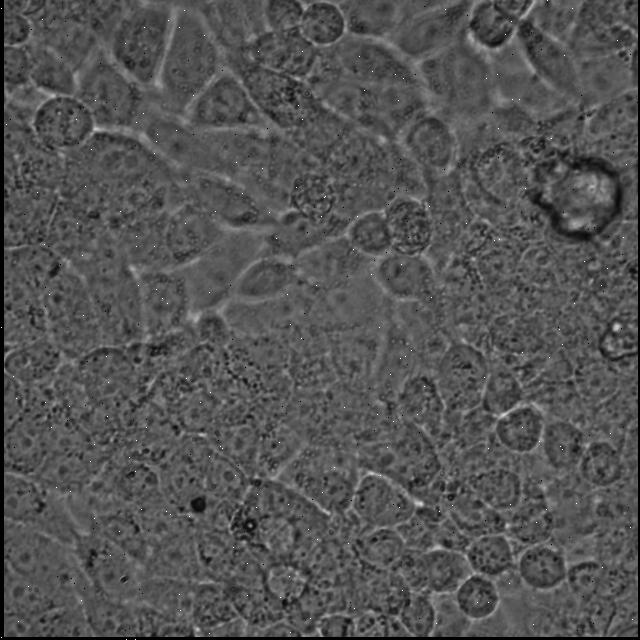microbeads: (240, 518, 258, 534)
